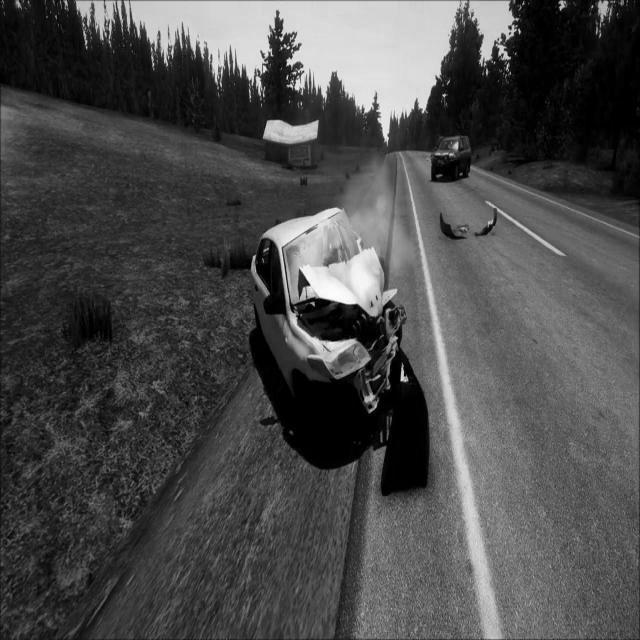accident: (249, 198, 409, 439)
vehicle: (431, 132, 471, 183)
